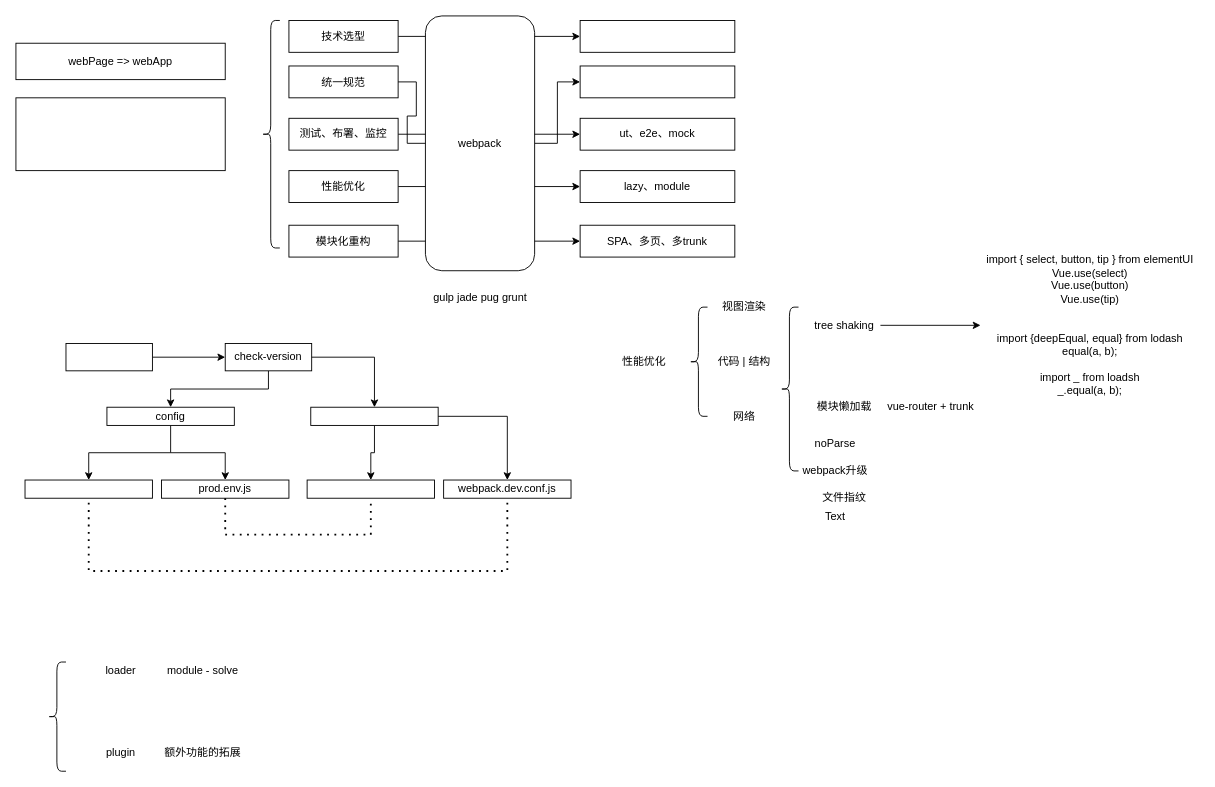
Image size: 1215x787. Some labels were removed from this diagram. Each missing label, with the box of its shape:
dev.env.js: (24, 479, 152, 498)
eslint、husky: (579, 65, 735, 98)
run: (65, 343, 152, 371)
vue、react、element、ant: (579, 20, 735, 52)
webapack.prod.conf.js: (306, 479, 435, 498)
webpack.base.conf.js: (310, 406, 438, 425)
前端工程化: (15, 97, 225, 171)
